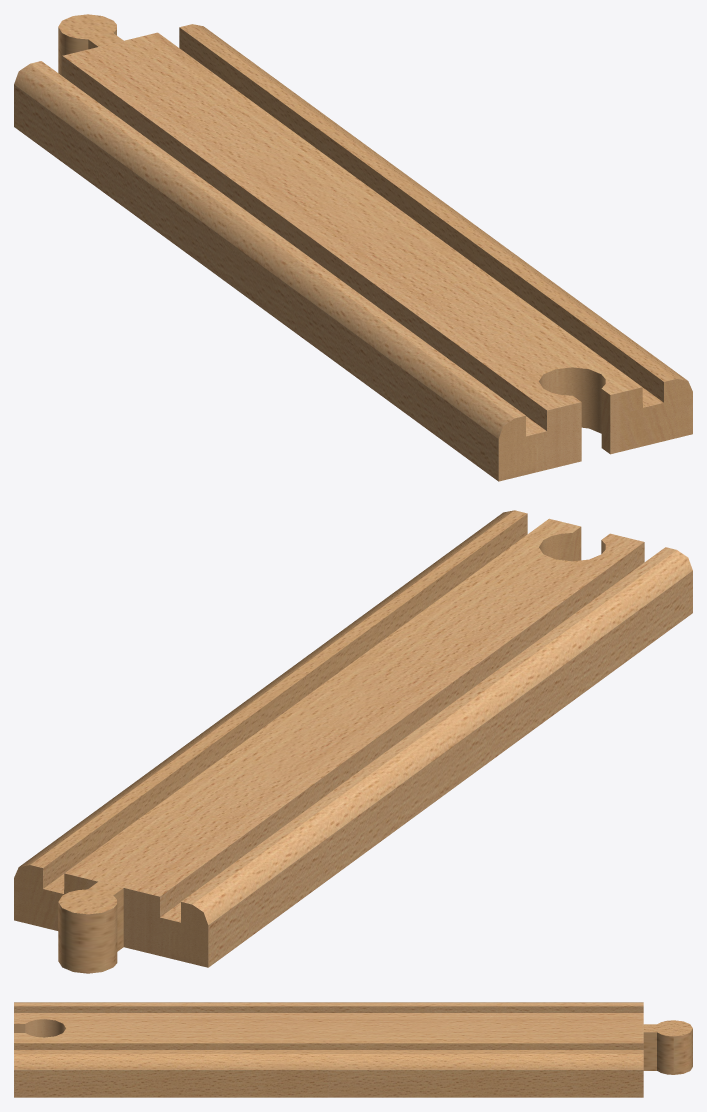
Rendered from toytraintrack.FBX.
3 renders of one model, top to bottom at view 1: azimuth 30°, elevation 25°; view 2: azimuth 150°, elevation 25°; view 3: azimuth 270°, elevation 25°, orthographic. The views are drawn at different scales.
Visible parts, largest first — view 1: trackpiece; view 2: trackpiece; view 3: trackpiece.
Part boxes in pixels (box(x1,y1,x2,y2)): trackpiece: box(14, 14, 692, 481); trackpiece: box(14, 510, 692, 973); trackpiece: box(14, 1002, 692, 1097).
Size of the model in its own units: 0.1632 by 0.76 by 0.0476.
Materials: 1 (1 with a texture image).
